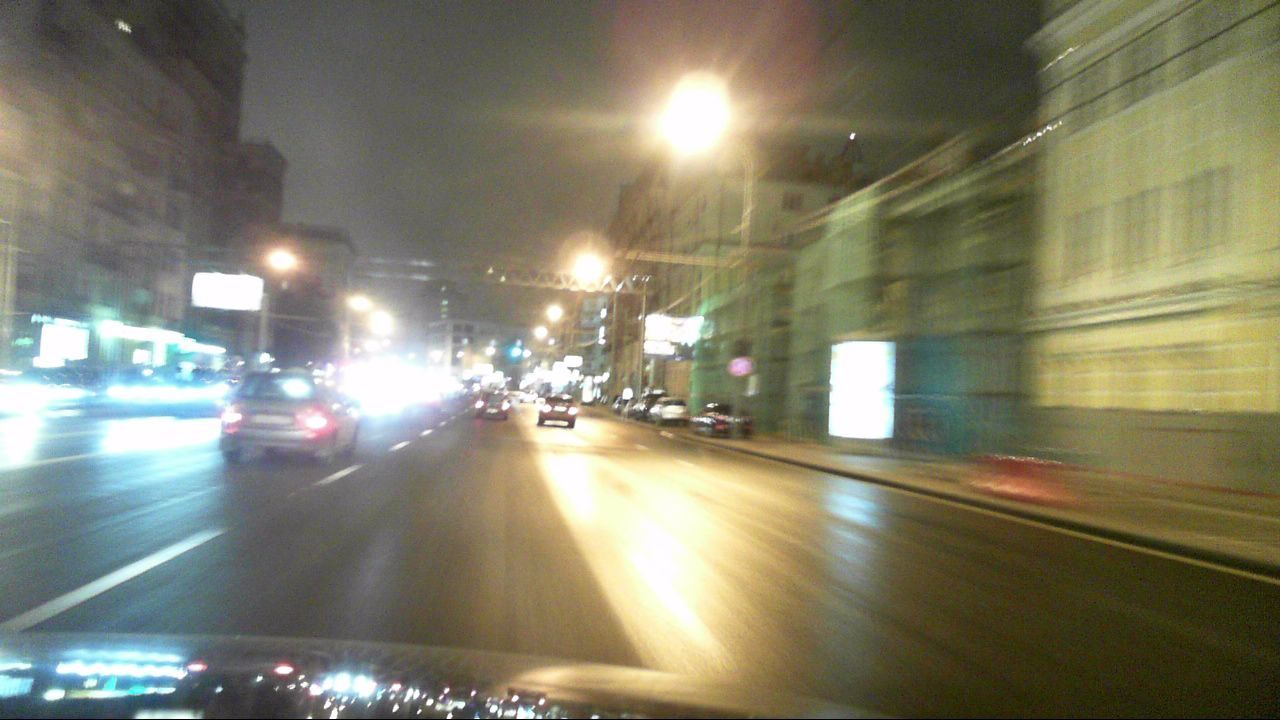No Parking: (729, 356, 750, 377)
